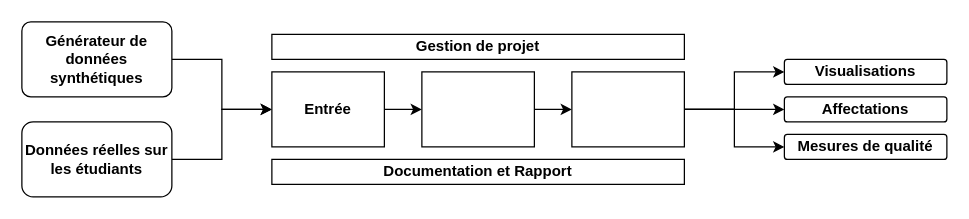
This 969x219 diagram has some shape labels left out. The shapes that lost their labels are listed below. From the top down, each one's box as (x1, y1, x2, y2) in pixels, then its label:
(421, 71, 534, 147): Solveur
(571, 71, 684, 147): Sortie
